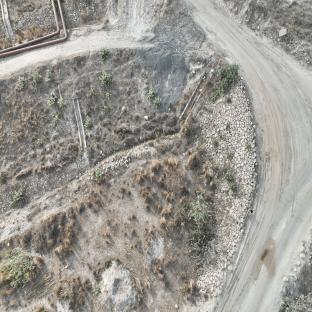rock_toe: (196, 81, 255, 298), (5, 159, 76, 211)
slope_drain: (177, 66, 214, 135), (72, 99, 90, 160)
toe_drain: (17, 128, 181, 214)
vegetation: (176, 194, 213, 257), (0, 249, 42, 290), (212, 62, 240, 97)
